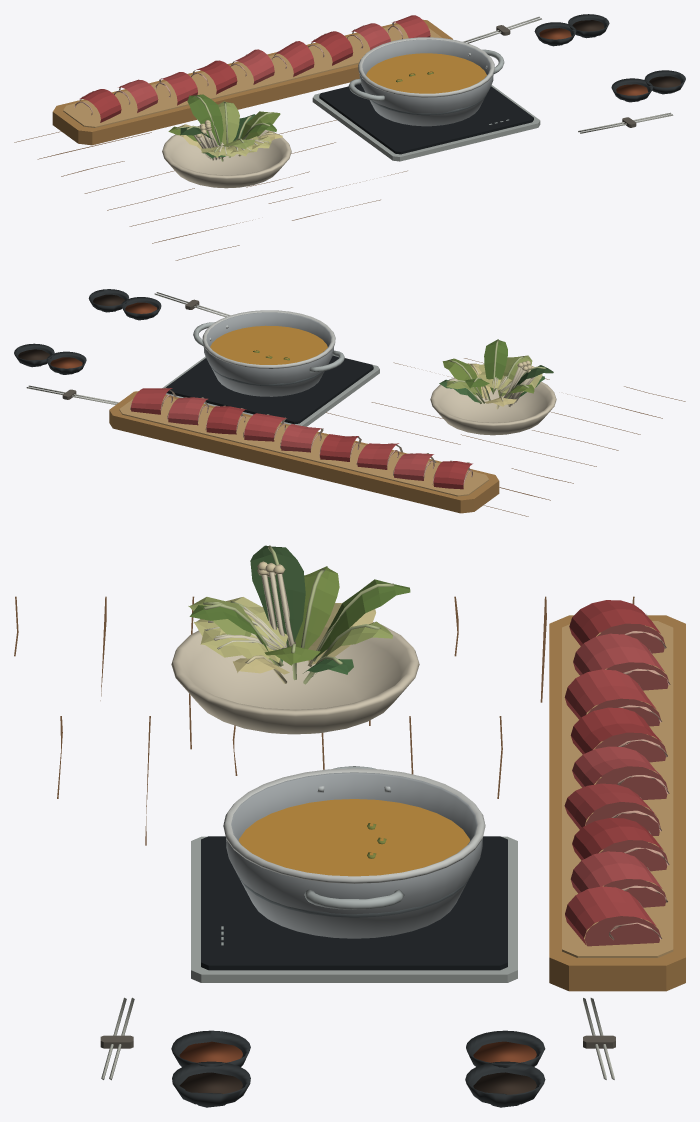
File: oksoban-setting.glb
3 views of the same model, one above another, from view 1: azimuth 30°, elevation 25°; view 2: azimuth 150°, elevation 25°; view 3: azimuth 270°, elevation 25° (orthographic). The views are drawn at different scales.
Parts seen in each view (by area): view 1: Surface; view 2: Surface; view 3: Surface.
Part boxes in pixels (<box>): Surface: <box>14,14,685,260</box>; Surface: <box>14,289,685,516</box>; Surface: <box>14,545,685,1107</box>.
Size of the model in its own units: 1.57 by 0.176 by 0.8553.
